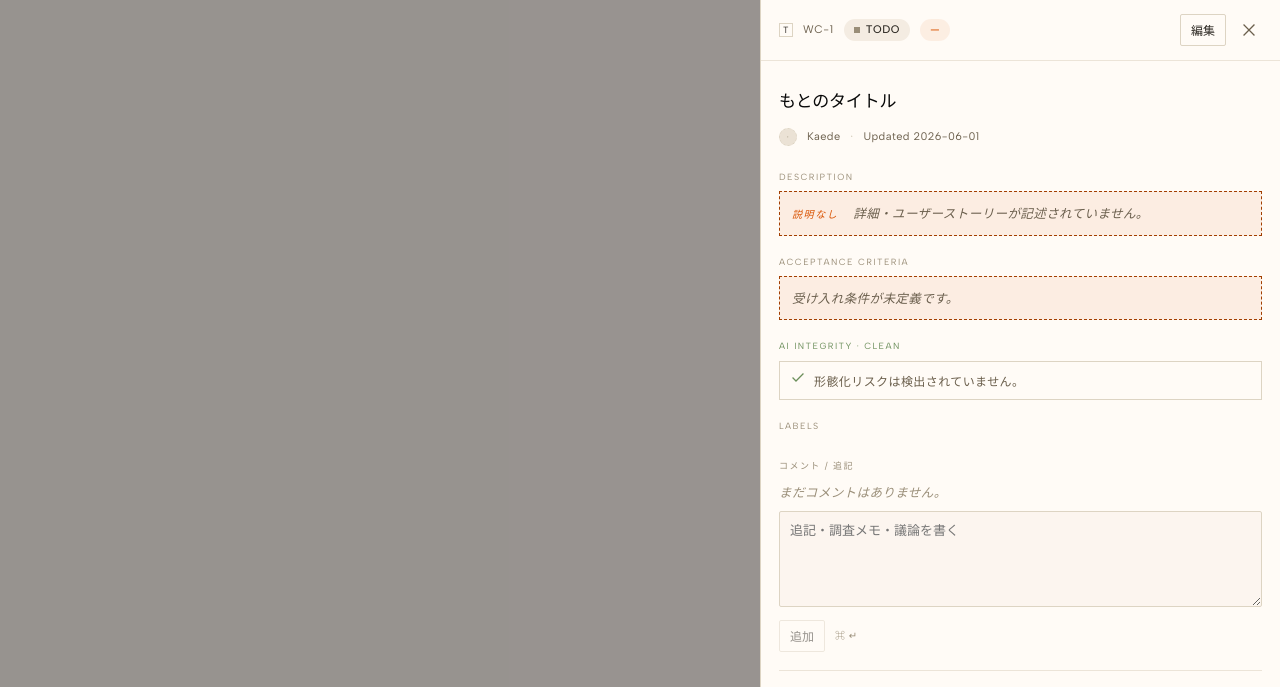
Test: DetailSheet 編集 → 保存 の配線 › 編集ボタンで編集モードに入り、保存/キャンセルが出る
Click the button with test id "edit-ticket" at (1203, 30), box [1180,14,1226,46]
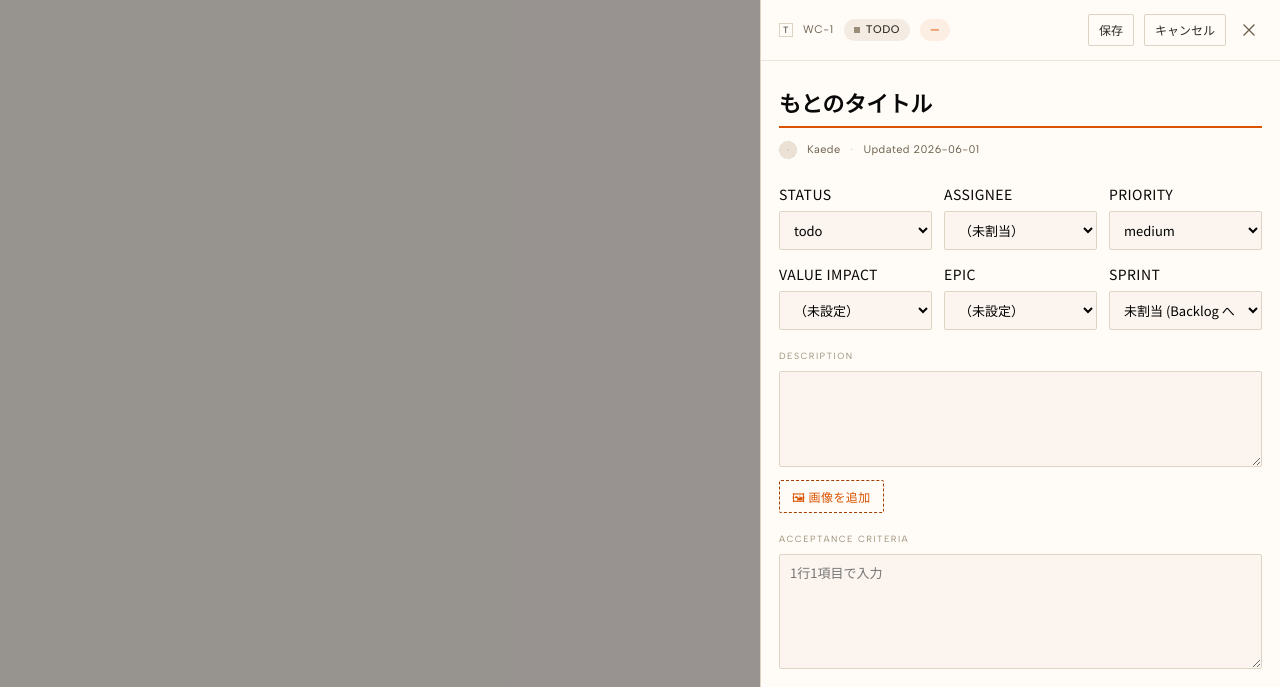
Now the button with test id "save-ticket" is shown, box [1088,14,1134,46]
Now the field with test id "edit-title" is shown, box [779,79,1262,128]
